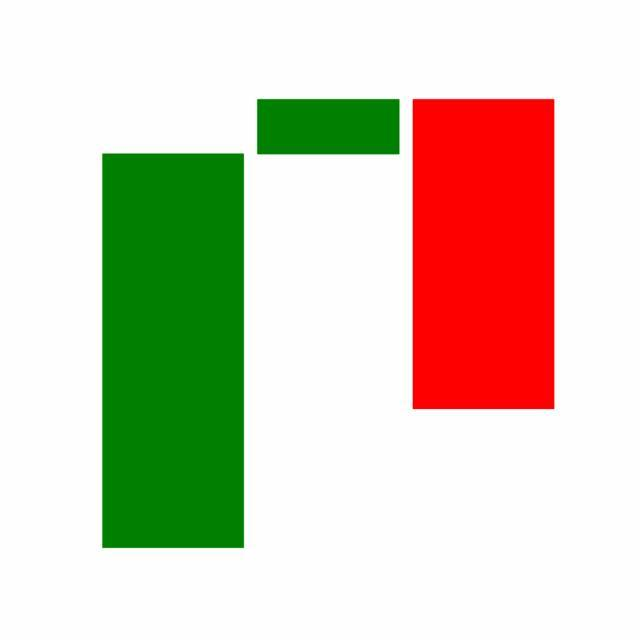Marubozu: (406, 96, 562, 413)
